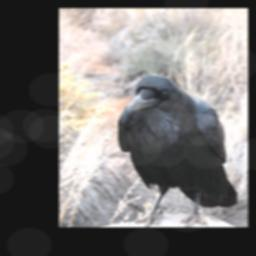Crow: (115, 73, 239, 227)
